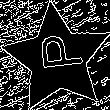P_W: (30, 37, 84, 80)
